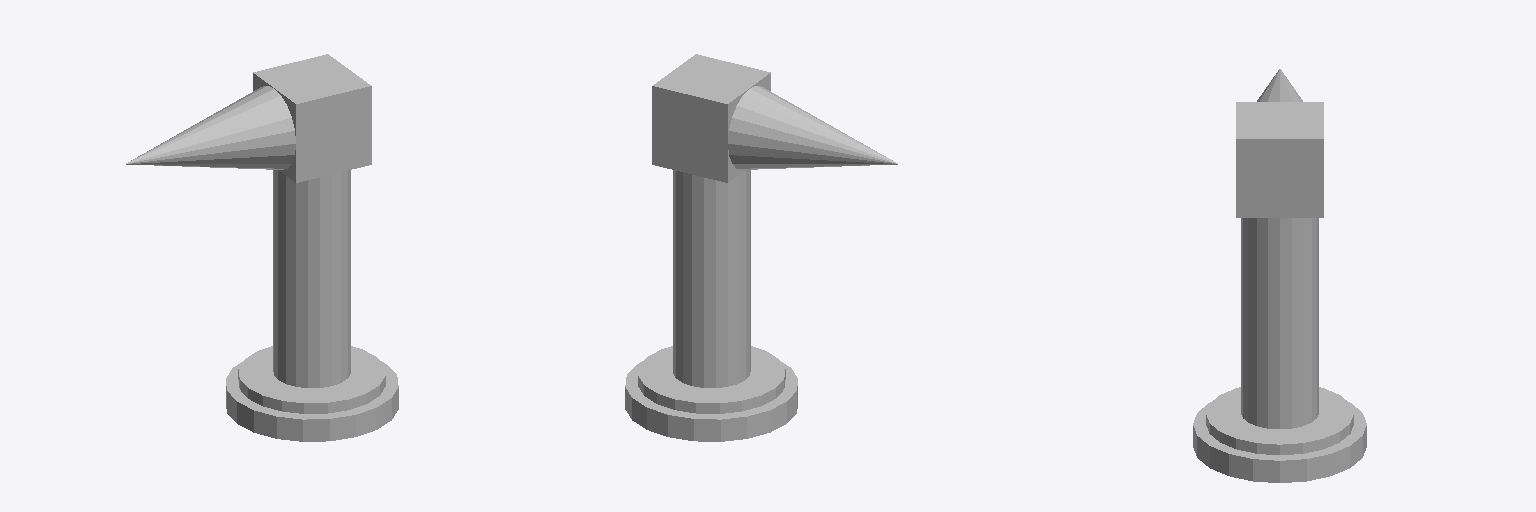
Rendered from PoleOBJ.obj.
The picture shows the model from 3 angles: view 1: azimuth 30°, elevation 25°; view 2: azimuth 150°, elevation 25°; view 3: azimuth 270°, elevation 25°; orthographic projection.
Parts seen in each view (by area): view 1: PoleMesh; view 2: PoleMesh; view 3: PoleMesh.
Part boxes in pixels (left/top/right/bottom): PoleMesh: left=126, top=54, right=398, bottom=441; PoleMesh: left=625, top=54, right=897, bottom=441; PoleMesh: left=1193, top=69, right=1366, bottom=482.
Size of the model in its own units: 3.49 by 4.13 by 2.